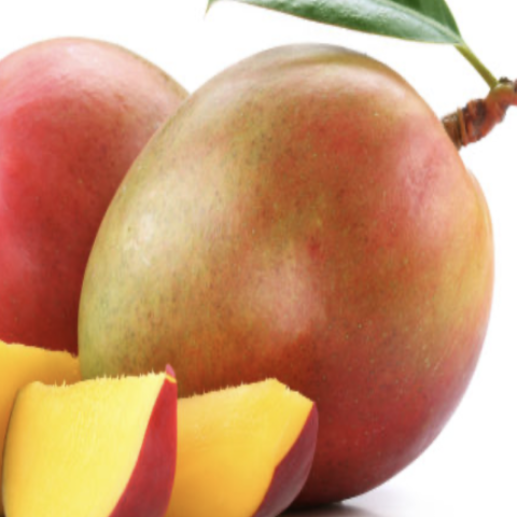mango: (54, 40, 516, 513)
